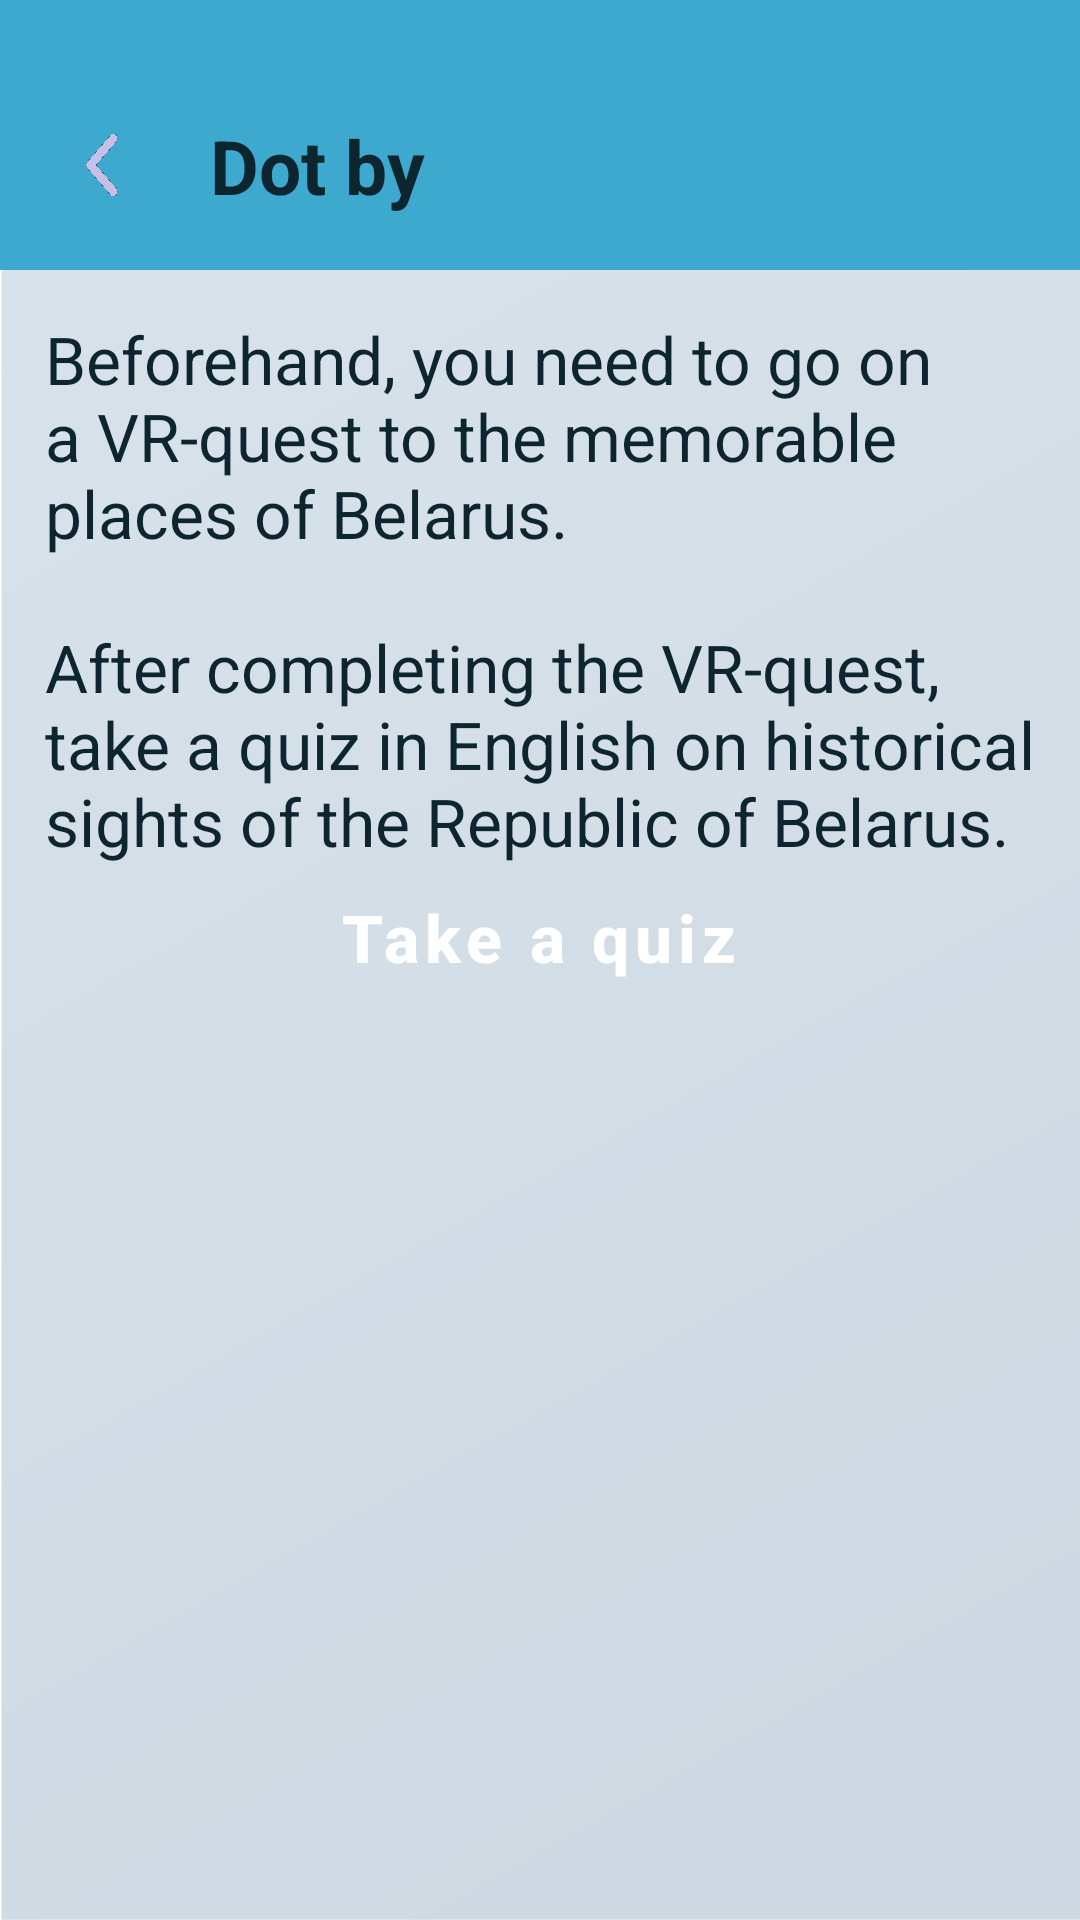

Icons on this 1080*1920 Android screen, each with its box as (x1, y1, x2, y2):
back: (86, 134, 118, 196)
